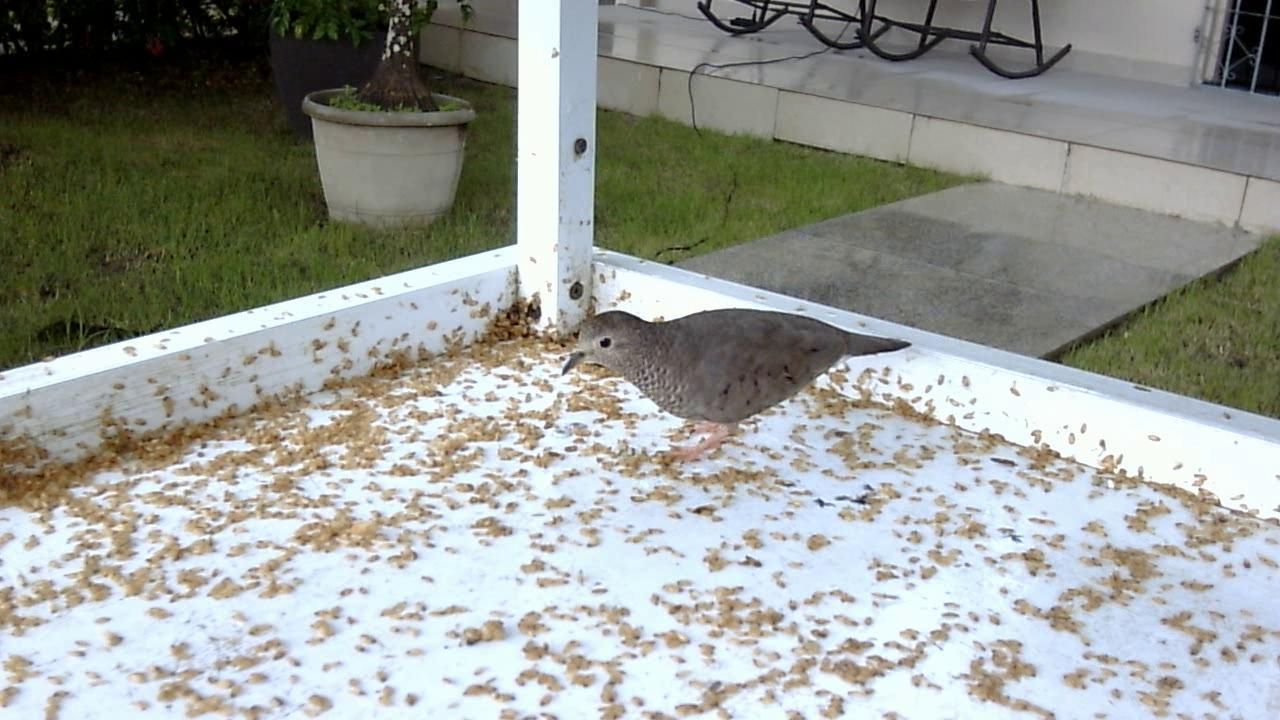rolinha: (559, 299, 907, 466)
